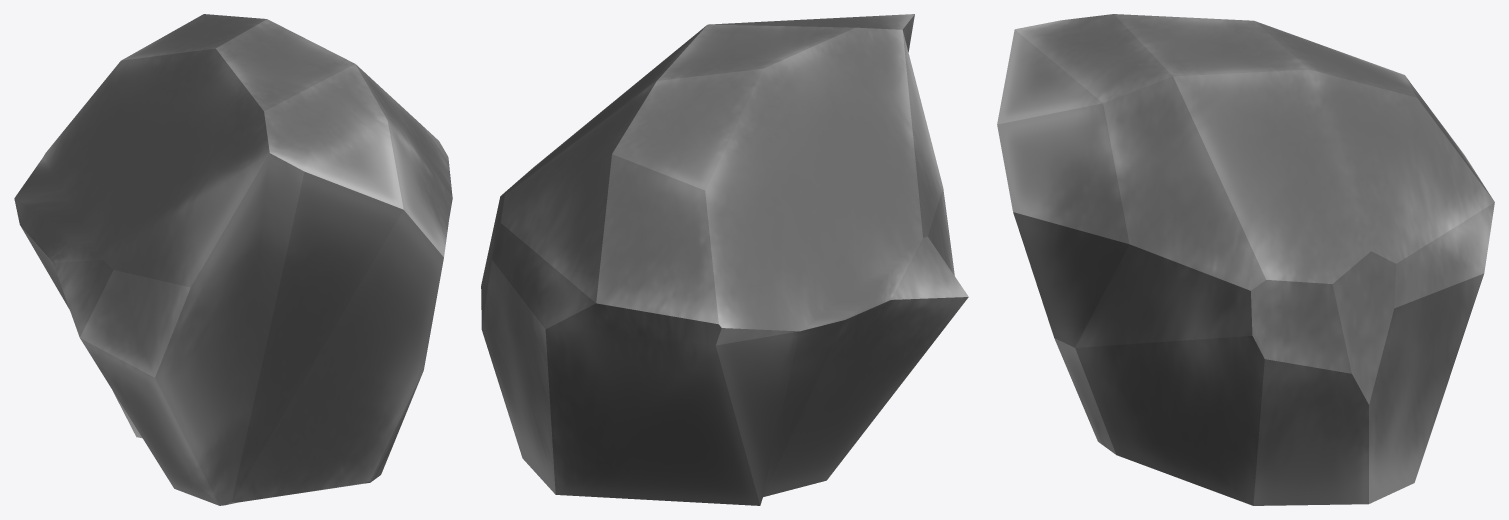
The model's file is stone-2.fbx.
3 renders of one model, left to right at view 1: azimuth 30°, elevation 25°; view 2: azimuth 150°, elevation 25°; view 3: azimuth 270°, elevation 25°, orthographic. The views are drawn at different scales.
Visible parts, largest first — view 1: Cube; view 2: Cube; view 3: Cube.
Boxes of the visible parts, bbox=[...] form: Cube: bbox=[14, 14, 452, 505]; Cube: bbox=[481, 14, 968, 505]; Cube: bbox=[997, 14, 1494, 505].
Bounding box in the file's own units: 1656 × 1604 × 1769.
1 material, 1 textured.
